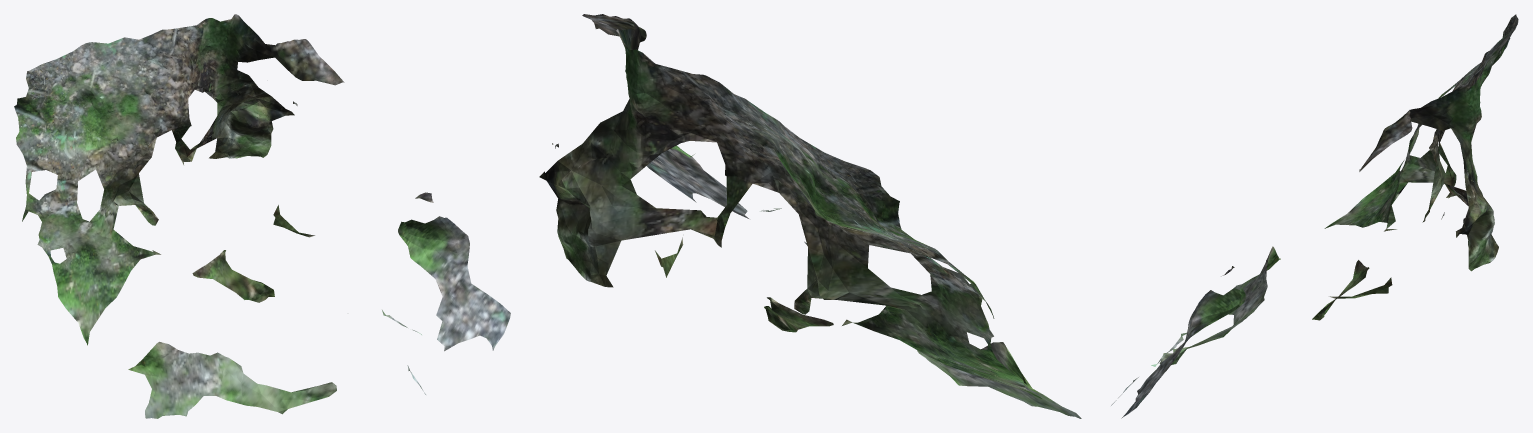
Rendered from texturedMesh.obj.
The picture shows the model from 3 angles, left to right: view 1: azimuth 30°, elevation 25°; view 2: azimuth 150°, elevation 25°; view 3: azimuth 270°, elevation 25°; orthographic projection. The views are drawn at different scales.
Parts seen in each view (by area): view 1: TexturedMesh; view 2: TexturedMesh; view 3: TexturedMesh.
Part boxes in pixels (x1,y1,x2,y2): TexturedMesh: (14, 14, 510, 418); TexturedMesh: (539, 14, 1081, 418); TexturedMesh: (1111, 14, 1518, 418).
Size of the model in its own units: 2.25 by 1.71 by 1.99.
1 material, 1 textured.
